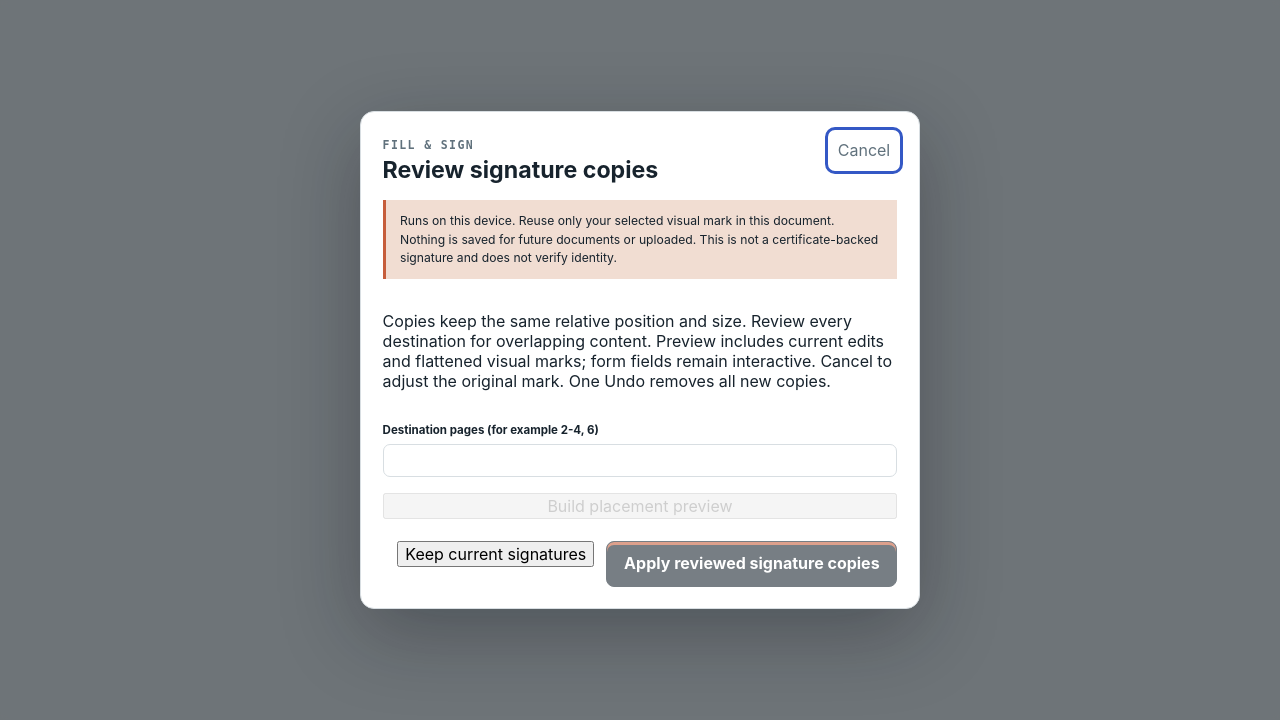
Test: SIGN-003 explicit per-page preview › refuses mismatched preview counts and releases the output
Step 1. Type "2" into the field labelled "Destination pages (for example 2-4, 6)" → (640, 460), box top-left (383, 444), bottom-right (897, 477)
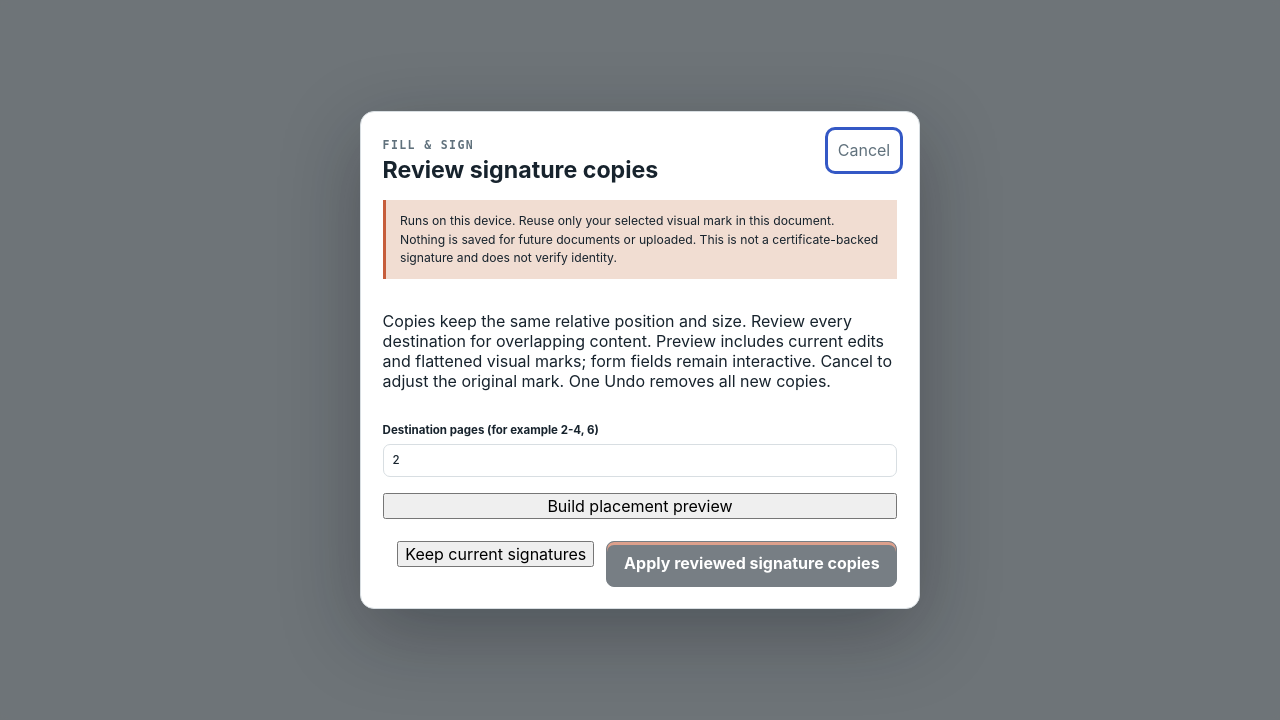
Step 2. Click the button "Build placement preview" → (640, 506), box top-left (383, 493), bottom-right (897, 519)
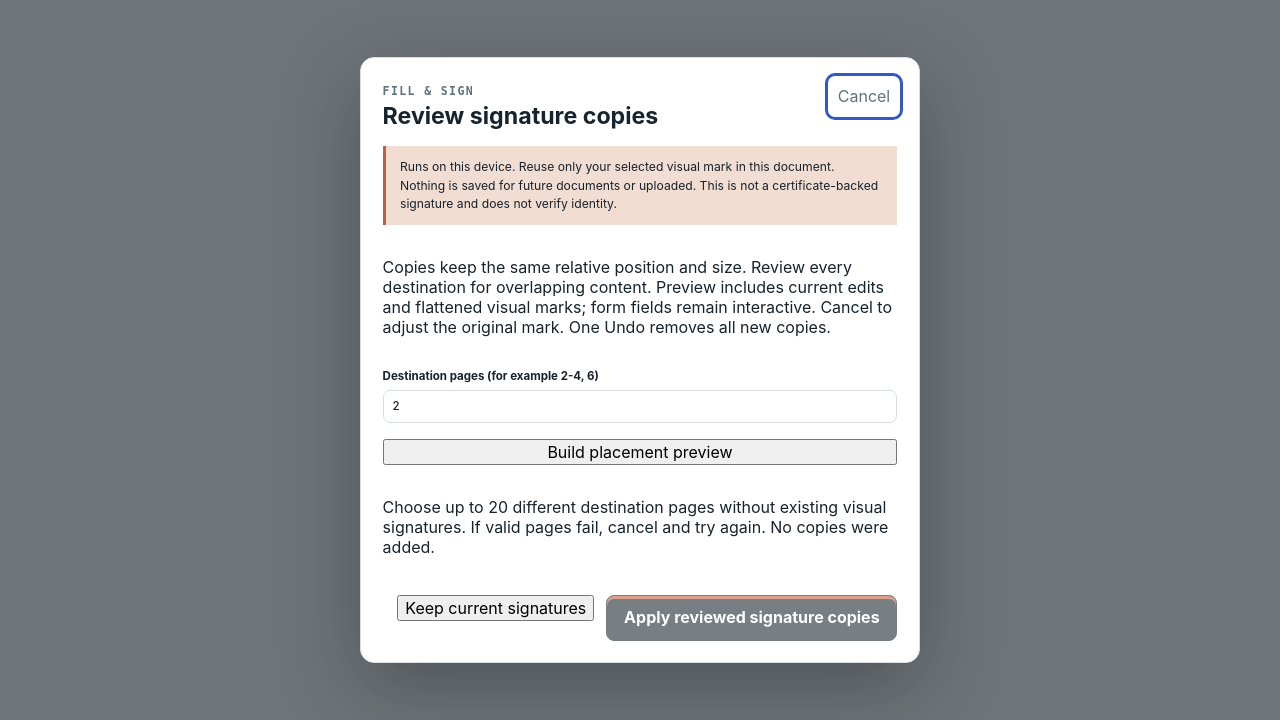
Expected: the message is shown, top-left (383, 497), bottom-right (897, 557)
